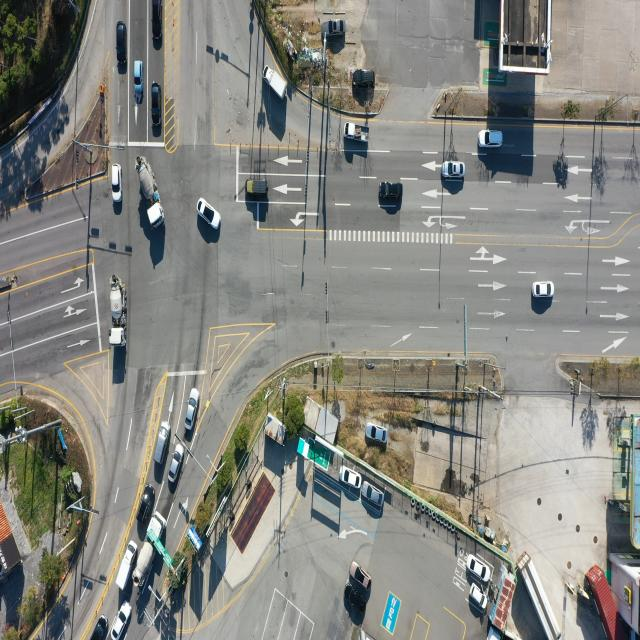car: (109, 602, 131, 640), (197, 199, 221, 233), (351, 560, 373, 595), (156, 421, 172, 464), (168, 442, 185, 482), (343, 585, 364, 615), (184, 389, 198, 432), (470, 556, 492, 583), (138, 487, 154, 524), (362, 484, 384, 508), (152, 0, 162, 50), (469, 583, 487, 610), (341, 465, 362, 488), (110, 164, 122, 204), (479, 130, 504, 149), (352, 68, 375, 87), (151, 84, 160, 132), (379, 181, 403, 199), (364, 423, 386, 442), (92, 616, 109, 640), (443, 162, 465, 180), (116, 23, 125, 67), (246, 179, 268, 196), (327, 19, 347, 36), (532, 282, 553, 298), (134, 61, 144, 94)
medium_truck: (523, 557, 564, 640), (133, 514, 165, 588), (135, 158, 164, 228), (112, 288, 129, 349)
small_truck: (115, 542, 136, 591), (264, 63, 287, 101), (344, 123, 369, 143)
